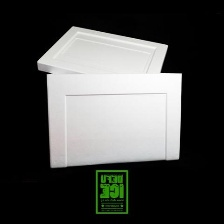foam_box: (32, 22, 189, 171)
